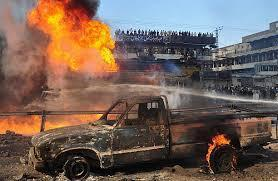fire: (32, 0, 124, 74), (2, 111, 111, 134), (207, 132, 235, 169)
